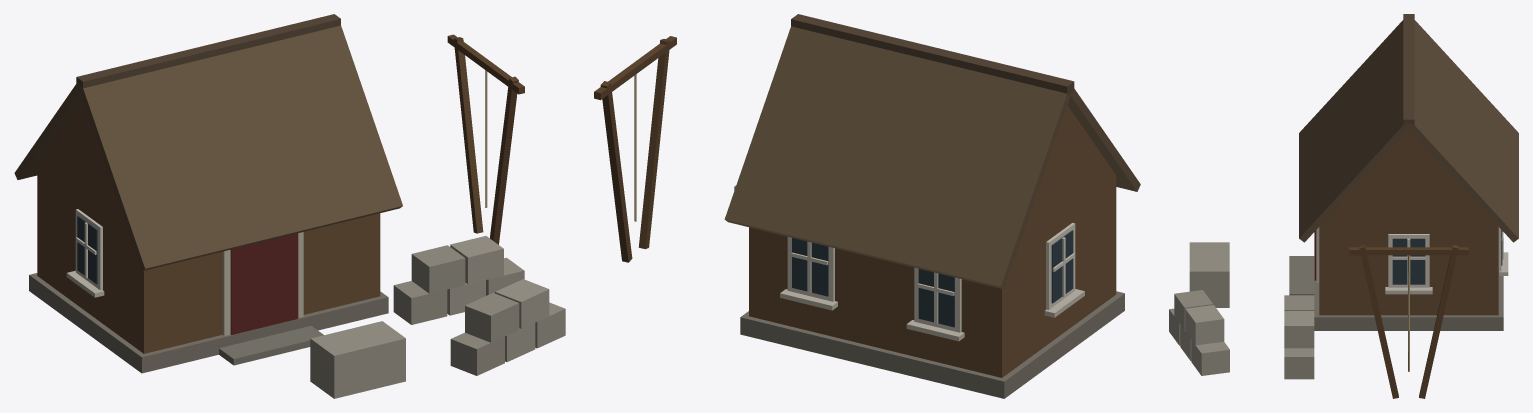
File: procedural_mason@3.glb
3 renders of one model, left to right at view 1: azimuth 30°, elevation 25°; view 2: azimuth 150°, elevation 25°; view 3: azimuth 270°, elevation 25°, orthographic. The views are drawn at different scales.
Visible parts, largest first — view 1: part_0; view 2: part_0; view 3: part_0.
Boxes of the visible parts, <box> form: part_0: <box>14,14,565,398</box>; part_0: <box>594,14,1140,398</box>; part_0: <box>1169,14,1518,398</box>.
Bounding box in the file's own units: 7.97 × 4.81 × 7.02.
